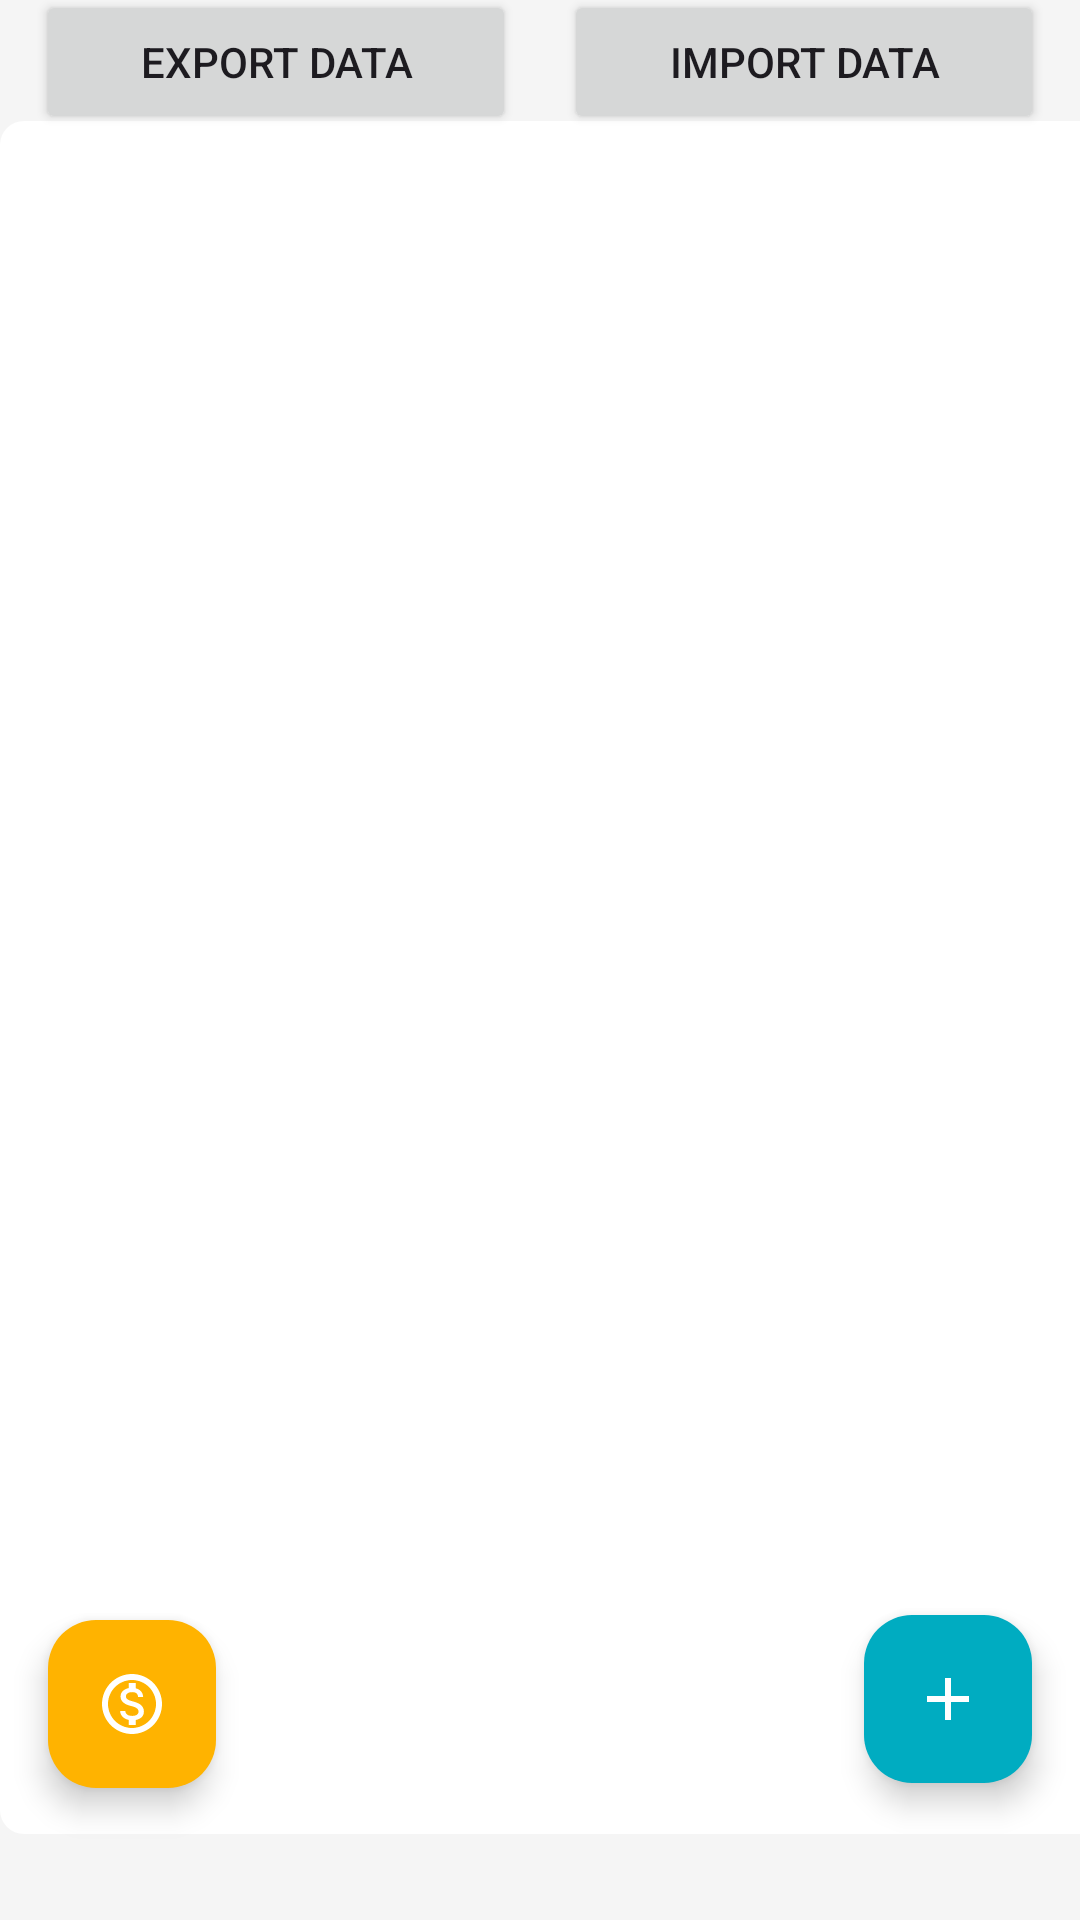

Locate icon controls on the screen. Image size 1080px×1920px, boxes as (left=x1, top=y1, right=x2, bottom=y2).
Add Transaction: (left=864, top=1615, right=1032, bottom=1783)
Budget: (left=48, top=1620, right=216, bottom=1788)
